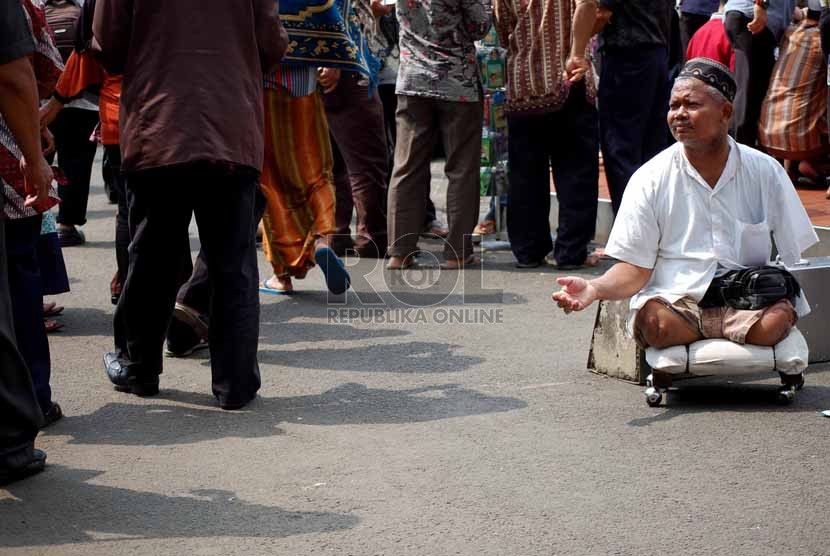gelandangan: (556, 56, 830, 407)
